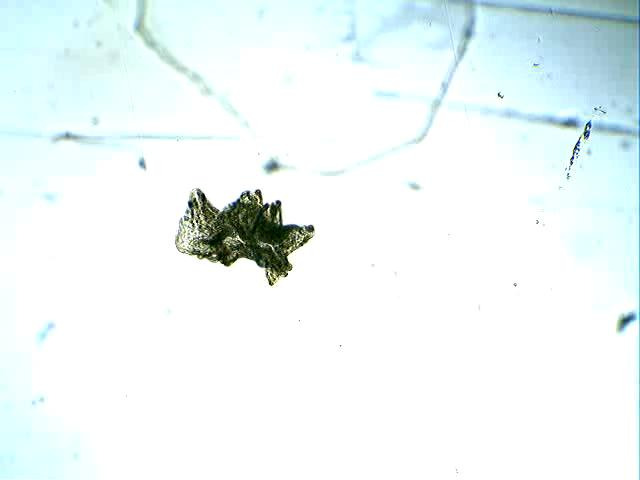Placozoan: (173, 187, 316, 287)
